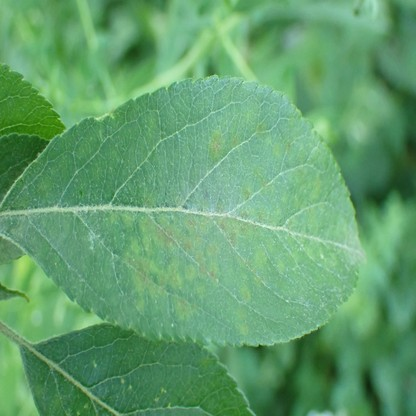powdery_mildew: (343, 229, 365, 265), (89, 229, 100, 249)
scab: (280, 170, 348, 267), (127, 239, 158, 315), (159, 213, 211, 253), (215, 214, 252, 245), (139, 192, 157, 252), (158, 254, 182, 292), (196, 242, 219, 280), (248, 206, 281, 227), (173, 295, 193, 320), (231, 307, 248, 336), (209, 130, 222, 160), (273, 141, 292, 161), (260, 178, 275, 199), (253, 248, 267, 269), (230, 129, 241, 152), (194, 280, 205, 303), (255, 122, 269, 140), (121, 209, 133, 230), (184, 264, 196, 283), (105, 210, 119, 225), (239, 283, 250, 302), (249, 270, 261, 286), (243, 185, 252, 202), (253, 165, 263, 180), (277, 260, 285, 274), (213, 204, 223, 215)
